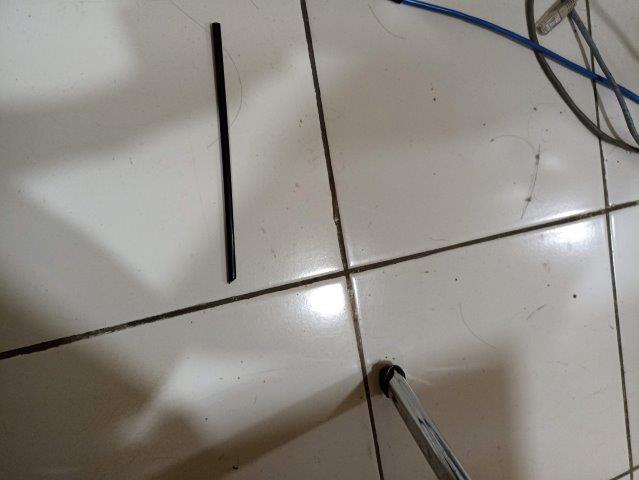sedotan: (211, 23, 237, 284)
